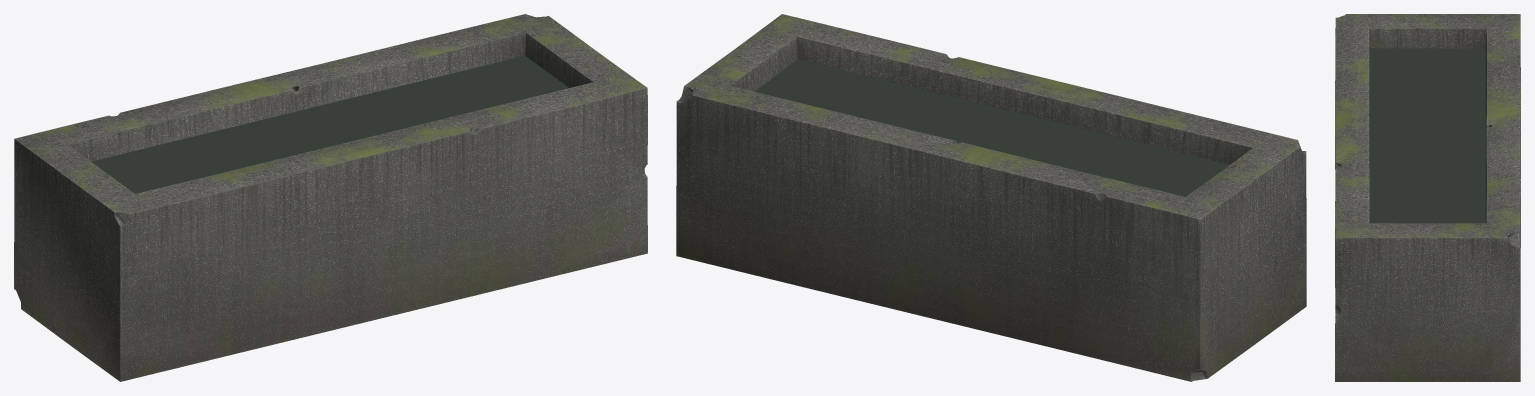
File: trough_granite.glb
3 renders of one model, left to right at view 1: azimuth 30°, elevation 25°; view 2: azimuth 150°, elevation 25°; view 3: azimuth 270°, elevation 25°, orthographic. The views are drawn at different scales.
Visible parts, largest first — view 1: trough_granite; view 2: trough_granite; view 3: trough_granite.
Boxes of the visible parts, left/top/right/bottom form: trough_granite: left=14, top=14, right=647, bottom=381; trough_granite: left=676, top=14, right=1306, bottom=381; trough_granite: left=1335, top=14, right=1520, bottom=381.
Size of the model in its own units: 2 by 0.6 by 0.702.
2 materials, 1 textured.
